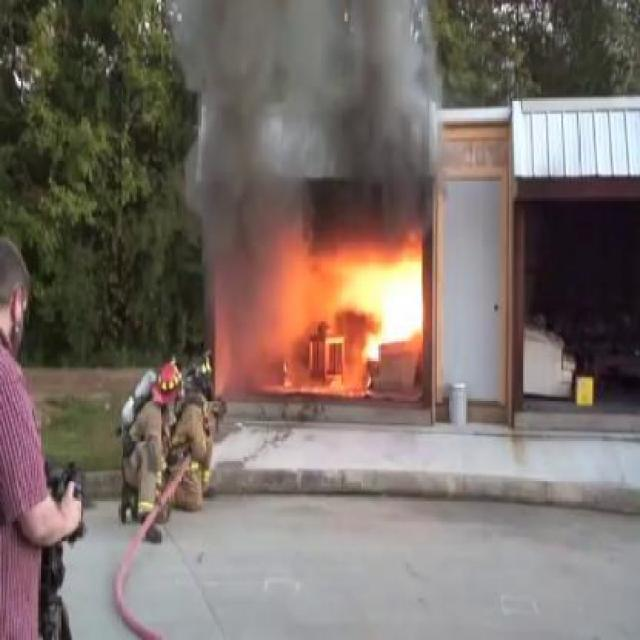fire: (327, 248, 438, 350)
smoke: (172, 5, 452, 238)
